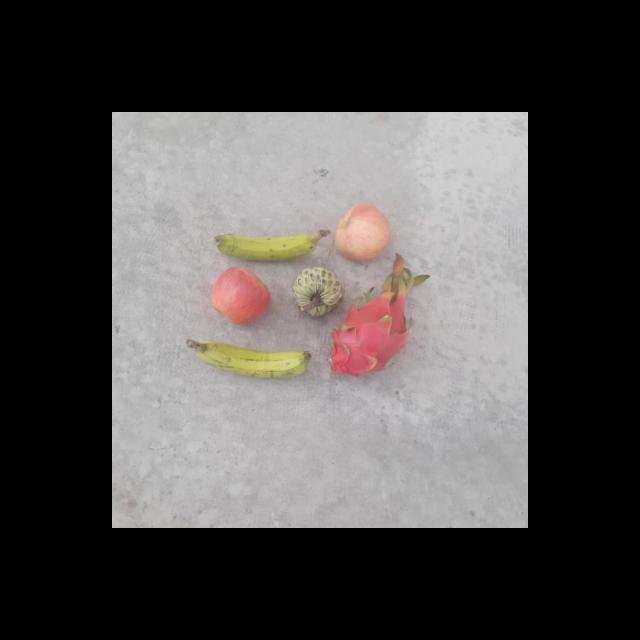Sakya fruit: (290, 263, 348, 320)
apple: (208, 263, 274, 330), (330, 202, 394, 266)
banana: (194, 334, 311, 385), (215, 223, 326, 266)
pitaya: (328, 296, 411, 378)
